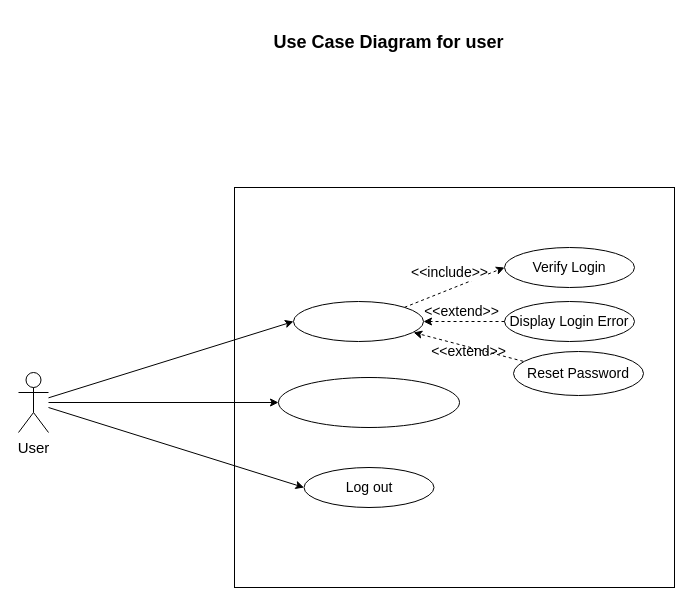
Some shapes in this 692 by 605 pixel diagram are drawn without their labels. Here are the shapes that lost their labels. From the top down, the box of each, then its label:
(292, 300, 424, 342): Login
(278, 376, 460, 428): Change login password
